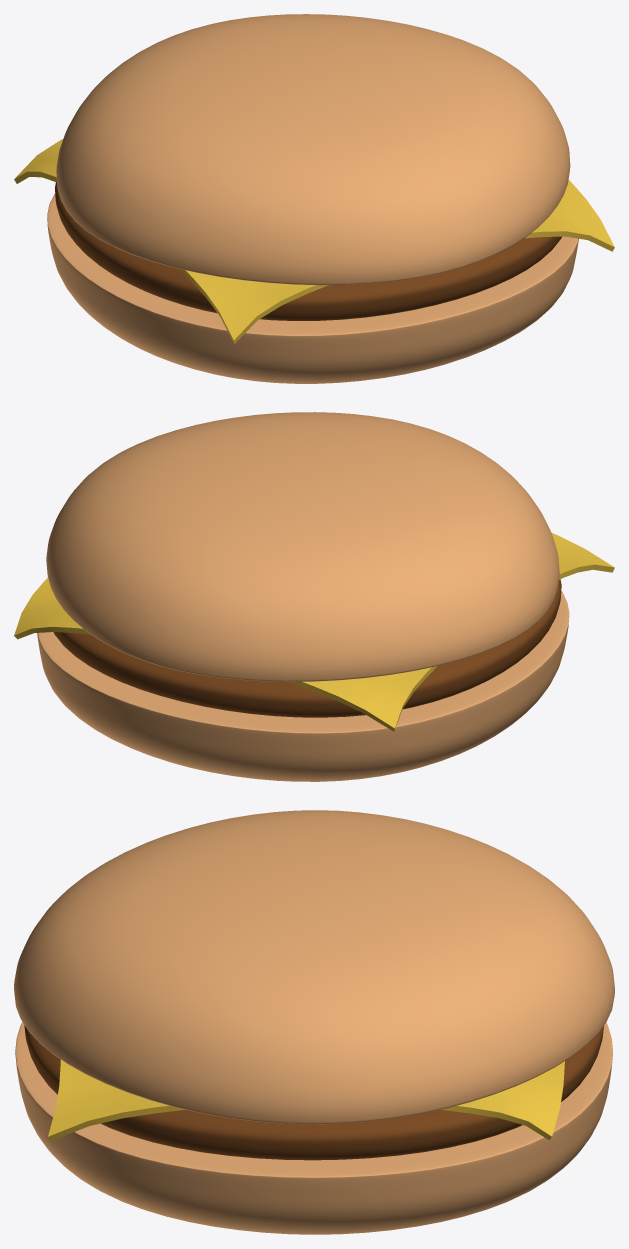
The model's file is hamburger.glb.
3 views of the same model, one above another, from view 1: azimuth 30°, elevation 25°; view 2: azimuth 150°, elevation 25°; view 3: azimuth 270°, elevation 25° (orthographic). The views are drawn at different scales.
Visible parts, largest first — view 1: Cube.002, Cube, Cube.001, Plane; view 2: Cube.002, Cube, Cube.001, Plane; view 3: Cube.002, Cube, Cube.001, Plane.
Boxes of the visible parts, box(x1,y1,x2,y2) form: Cube.002: box(56, 14, 570, 285); Cube: box(47, 193, 578, 383); Cube.001: box(55, 182, 561, 320); Plane: box(14, 139, 614, 343); Cube.002: box(46, 412, 559, 681); Cube: box(37, 591, 569, 781); Cube.001: box(53, 579, 561, 717); Plane: box(14, 533, 614, 731); Cube.002: box(14, 810, 614, 1124); Cube: box(15, 1022, 612, 1234); Cube.001: box(24, 1025, 603, 1160); Plane: box(48, 1060, 564, 1141).
Bounding box in the file's own units: 1.79 × 0.9232 × 1.79.
